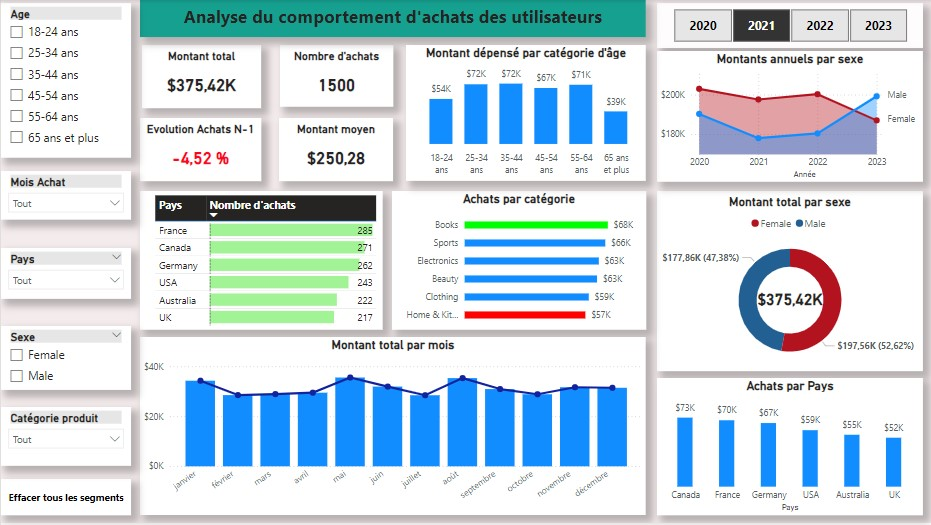

The dashboard page shown, as its layout file describes it:
{"tool":"powerbi","page":{"name":"Page 1","canvas":[1280,720],"ordinal":0},"visuals":[{"type":"card","title":"Montant total","fields":{"Values":["Sum(dataset.Montant total)"]},"box":[194.1,61.9,163.8,86.7],"z":0},{"type":"donutChart","title":"Montant total par sexe ","fields":{"Category":["dataset.Sexe"],"Y":["Sum(dataset.Montant total)"]},"box":[902.9,262.9,366.1,247.7],"z":1000},{"type":"slicer","fields":{"Values":["dataset.Pays"]},"box":[0,341.3,178.9,70.2],"z":2000},{"type":"card","title":"Nombre d''achats","fields":{"Values":["Count(dataset.User ID)"]},"box":[384,61.9,155.5,85.3],"z":3000},{"type":"card","title":"Montant moyen","fields":{"Values":["Avg(dataset.Montant total)"]},"box":[382.6,162.4,156.9,86.7],"z":4000},{"type":"card","title":"Evolution Achats N-1","fields":{"Values":["dataset.EvolutionAffichee"]},"box":[191.3,162.4,166.5,86.7],"z":5000},{"type":"card","title":"Montant total","fields":{"Values":["Sum(dataset.Montant total)"]},"box":[1026.8,374.4,118.4,74.3],"z":6000},{"type":"slicer","fields":{"Values":["dataset.Année d'achat"]},"box":[902.9,4.1,366.1,61.9],"z":7000},{"type":"tableEx","title":"Nombre d''achats  par Pays","fields":{"Values":["dataset.Pays","Count(dataset.User ID)"]},"box":[191.3,262.9,334.5,191.3],"z":8000},{"type":"clusteredBarChart","title":"Achats par catégorie","fields":{"Category":["dataset.Catégorie produit"],"Y":["Sum(dataset.Montant total)"]},"box":[538.2,262.9,349.6,191.3],"z":9000},{"type":"lineStackedColumnComboChart","title":"Montant total par mois","fields":{"Category":["dataset.Date d'achat.Variation.Hiérarchie de dates.Mois"],"Y":["Sum(dataset.Montant total)"],"Y2":["Sum(dataset.Montant total)"]},"box":[191.3,463.8,696.4,245],"z":10000},{"type":"clusteredColumnChart","title":"Achats par Pays","fields":{"Category":["dataset.Pays"],"Y":["Sum(dataset.Montant total)"]},"box":[902.9,520.3,366.1,188.6],"z":11000},{"type":"slicer","fields":{"Values":["dataset.Sexe"]},"box":[0,448.7,178.9,88.1],"z":12000},{"type":"slicer","fields":{"Values":["dataset.Date d'achat.Variation.Hiérarchie de dates.Mois"]},"box":[0,235.4,178.9,67.4],"z":13000},{"type":"textbox","box":[191.3,0,696.4,50.9],"z":14000},{"type":"areaChart","title":"Montants annuels par sexe","fields":{"Category":["dataset.Date d'achat.Variation.Hiérarchie de dates.Année"],"Y":["Sum(dataset.Montant total)"],"Series":["dataset.Sexe"]},"box":[902.9,70.2,366.1,180.3],"z":15000},{"type":"slicer","fields":{"Values":["dataset.Age (groupes)"]},"box":[0,4.1,178.9,213.3],"z":16000},{"type":"actionButton","box":[0,659.3,178.9,49.5],"z":17000},{"type":"columnChart","title":"Montant dépensé par catégorie d''âge","fields":{"Category":["dataset.Age (groupes)"],"Y":["Sum(dataset.Montant total)"]},"box":[557.4,61.9,330.3,187.2],"z":18000},{"type":"slicer","fields":{"Values":["dataset.Catégorie produit"]},"box":[0,560.2,178.9,81.2],"z":19000}]}

Visuals, with their boxes in screenshot pixels (x1, y1, x2, y2), scaled from the page's 1280x720 canvas onto the 931x525 screenshot:
"Montant total" card: 141:45:260:108
"Montant total par sexe " donutChart: 657:192:923:372
slicer - dataset.Pays: 0:249:130:300
"Nombre d''achats" card: 279:45:392:107
"Montant moyen" card: 278:118:392:182
"Evolution Achats N-1" card: 139:118:260:182
"Montant total" card: 747:273:833:327
slicer - dataset.Année d'achat: 657:3:923:48
"Nombre d''achats  par Pays" tableEx: 139:192:382:331
"Achats par catégorie" clusteredBarChart: 391:192:646:331
"Montant total par mois" lineStackedColumnComboChart: 139:338:646:517
"Achats par Pays" clusteredColumnChart: 657:379:923:517
slicer - dataset.Sexe: 0:327:130:391
slicer - dataset.Date d'achat.Variation.Hiérarchie de dates.Mois: 0:172:130:221
textbox: 139:0:646:37
"Montants annuels par sexe" areaChart: 657:51:923:183
slicer - dataset.Age (groupes): 0:3:130:159
actionButton: 0:481:130:517
"Montant dépensé par catégorie d''âge" columnChart: 405:45:646:182
slicer - dataset.Catégorie produit: 0:408:130:468
